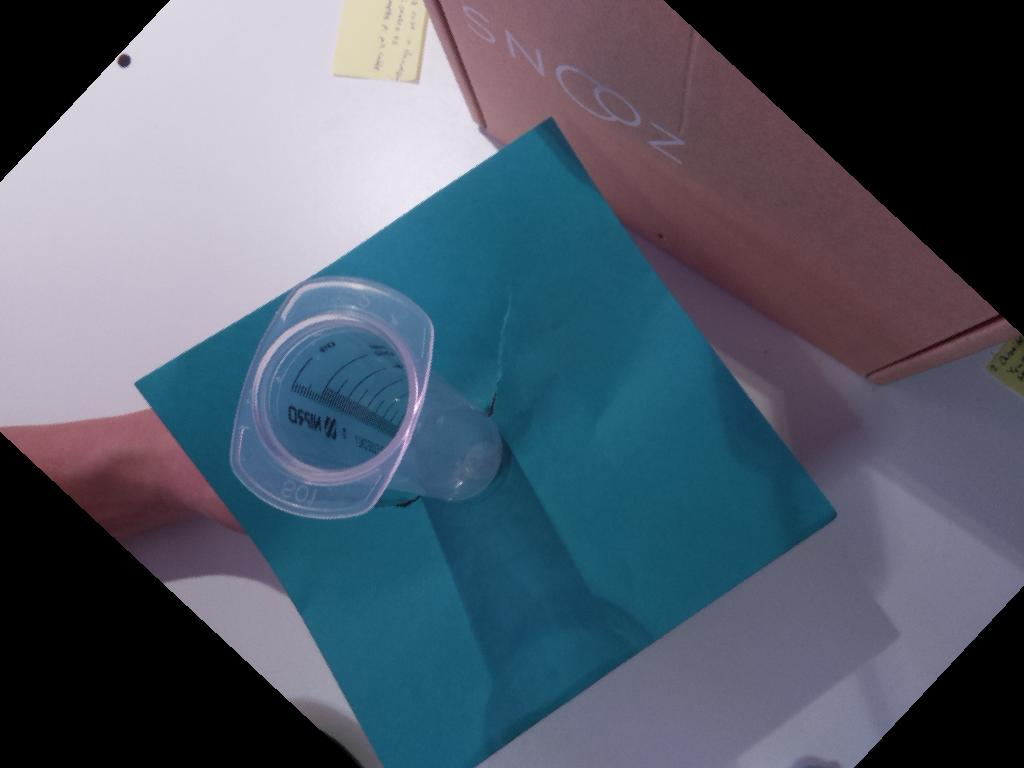clean: (230, 274, 433, 520)
